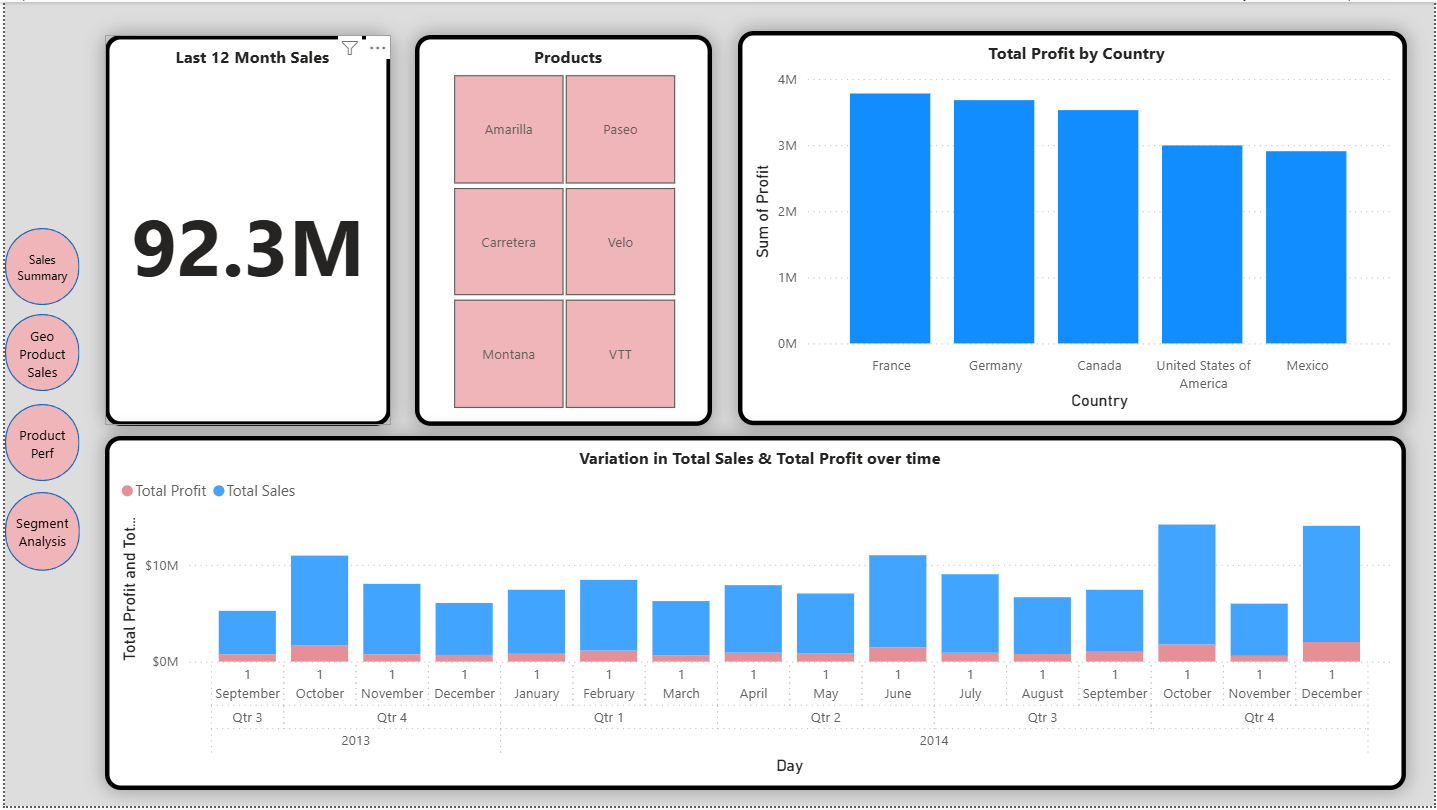

The dashboard page shown, as its layout file describes it:
{"tool":"powerbi","page":{"name":"Product Performance","canvas":[1280,720],"ordinal":2},"visuals":[{"type":"card","title":"Last 12 Month Sales","fields":{"Values":["financials.Sales LTM"]},"box":[89.7,29.2,256,349.7],"z":0},{"type":"shape","box":[0,438.4,67,70.5],"z":1000},{"type":"columnChart","title":"Total Profit by Country","fields":{"Category":["financials.Country"],"Y":["Sum(financials.Profit)"]},"box":[656.1,26.2,598.7,352.8],"z":2000},{"type":"shape","box":[0,359.7,67,69.3],"z":3000},{"type":"slicer","title":"Products","fields":{"Values":["financials.Product"]},"box":[366.9,29.2,266.1,349.7],"z":4000},{"type":"shape","box":[0,202.2,67,69.3],"z":5000},{"type":"columnChart","title":"Variation in Total Sales & Total Profit over time","fields":{"Y":["financials.Total Profit","financials.Total Sales"],"Category":["financials.Date.Variation.Date Hierarchy.Year","financials.Date.Variation.Date Hierarchy.Quarter","financials.Date.Variation.Date Hierarchy.Month","financials.Date.Variation.Date Hierarchy.Day"]},"box":[89.7,389,1165.1,317.5],"z":6000},{"type":"shape","box":[0,279.7,67,69.3],"z":7000}]}

Visuals, with their boxes in screenshot pixels (x1, y1, x2, y2), scaled from the page's 1280x720 canvas onto the 1437x810 screenshot:
"Last 12 Month Sales" card: [left=101, top=33, right=388, bottom=426]
shape: [left=0, top=493, right=75, bottom=573]
"Total Profit by Country" columnChart: [left=737, top=29, right=1409, bottom=426]
shape: [left=0, top=405, right=75, bottom=483]
"Products" slicer: [left=412, top=33, right=711, bottom=426]
shape: [left=0, top=227, right=75, bottom=305]
"Variation in Total Sales & Total Profit over time" columnChart: [left=101, top=438, right=1409, bottom=795]
shape: [left=0, top=315, right=75, bottom=393]
